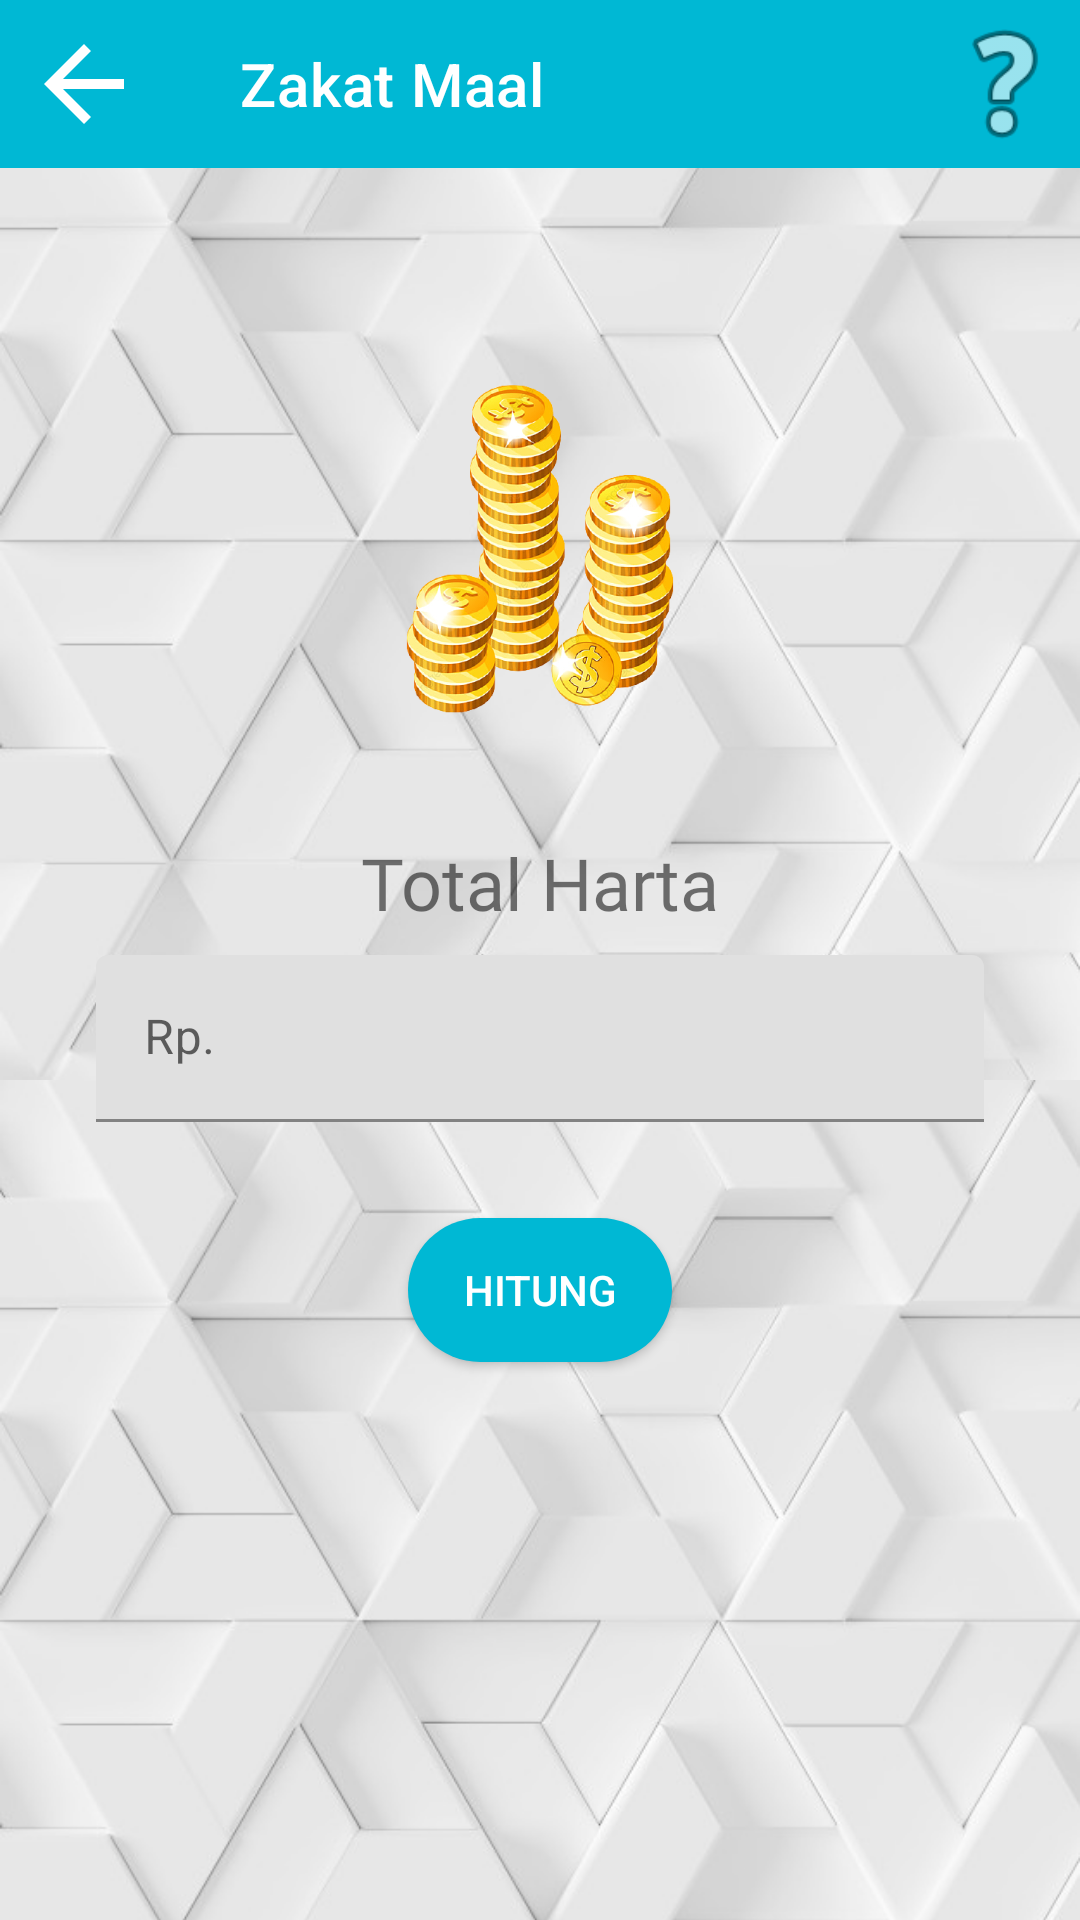

Locate icon controls on the screen. Image size 1080*1920, boxes as [x1,y1,x2,y2].
help: [972,30,1038,138]
